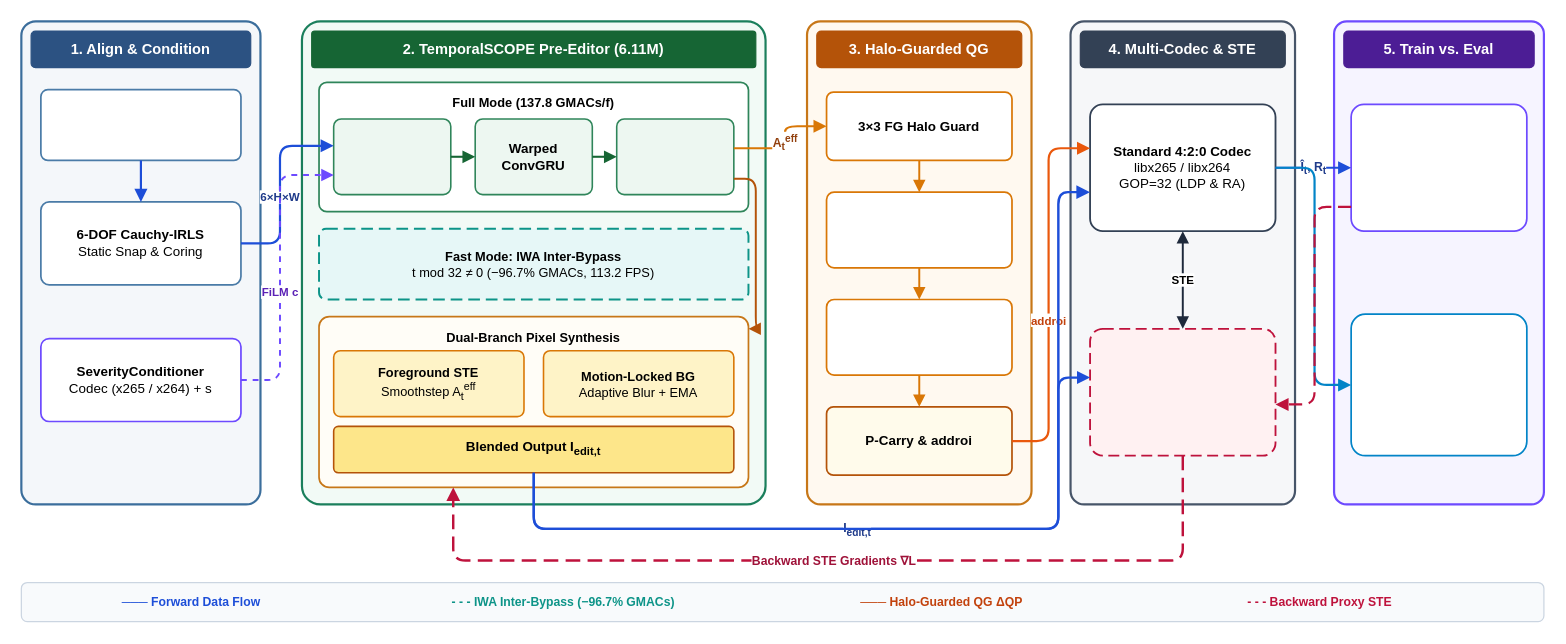
Image size: 1566x644. Some labels were removed from this diagram. Each missing label, with the centre of its shape:
16×16 QG Pool 40×24 Grid: (918,229)
Differentiable Proxy 8×8 DCT + 16×16 MC (Backward STE): (1182,391)
FiLM Decoder: (674,156)
FiLM Encoder: (391,156)
Non-Negative ΔQP FG=0, BG∈[0,+7.14]: (918,336)
Single-Teacher Train Frozen Faster R-CNN FPN + I/P Rate Loss: (1438,167)
Video GOP {I t } 3×384×640, T=32: (140,124)
Zero-Shot Evaluation 5 Detectors + Swin-T ByteTrack & 3 Datasets: (1438,384)
